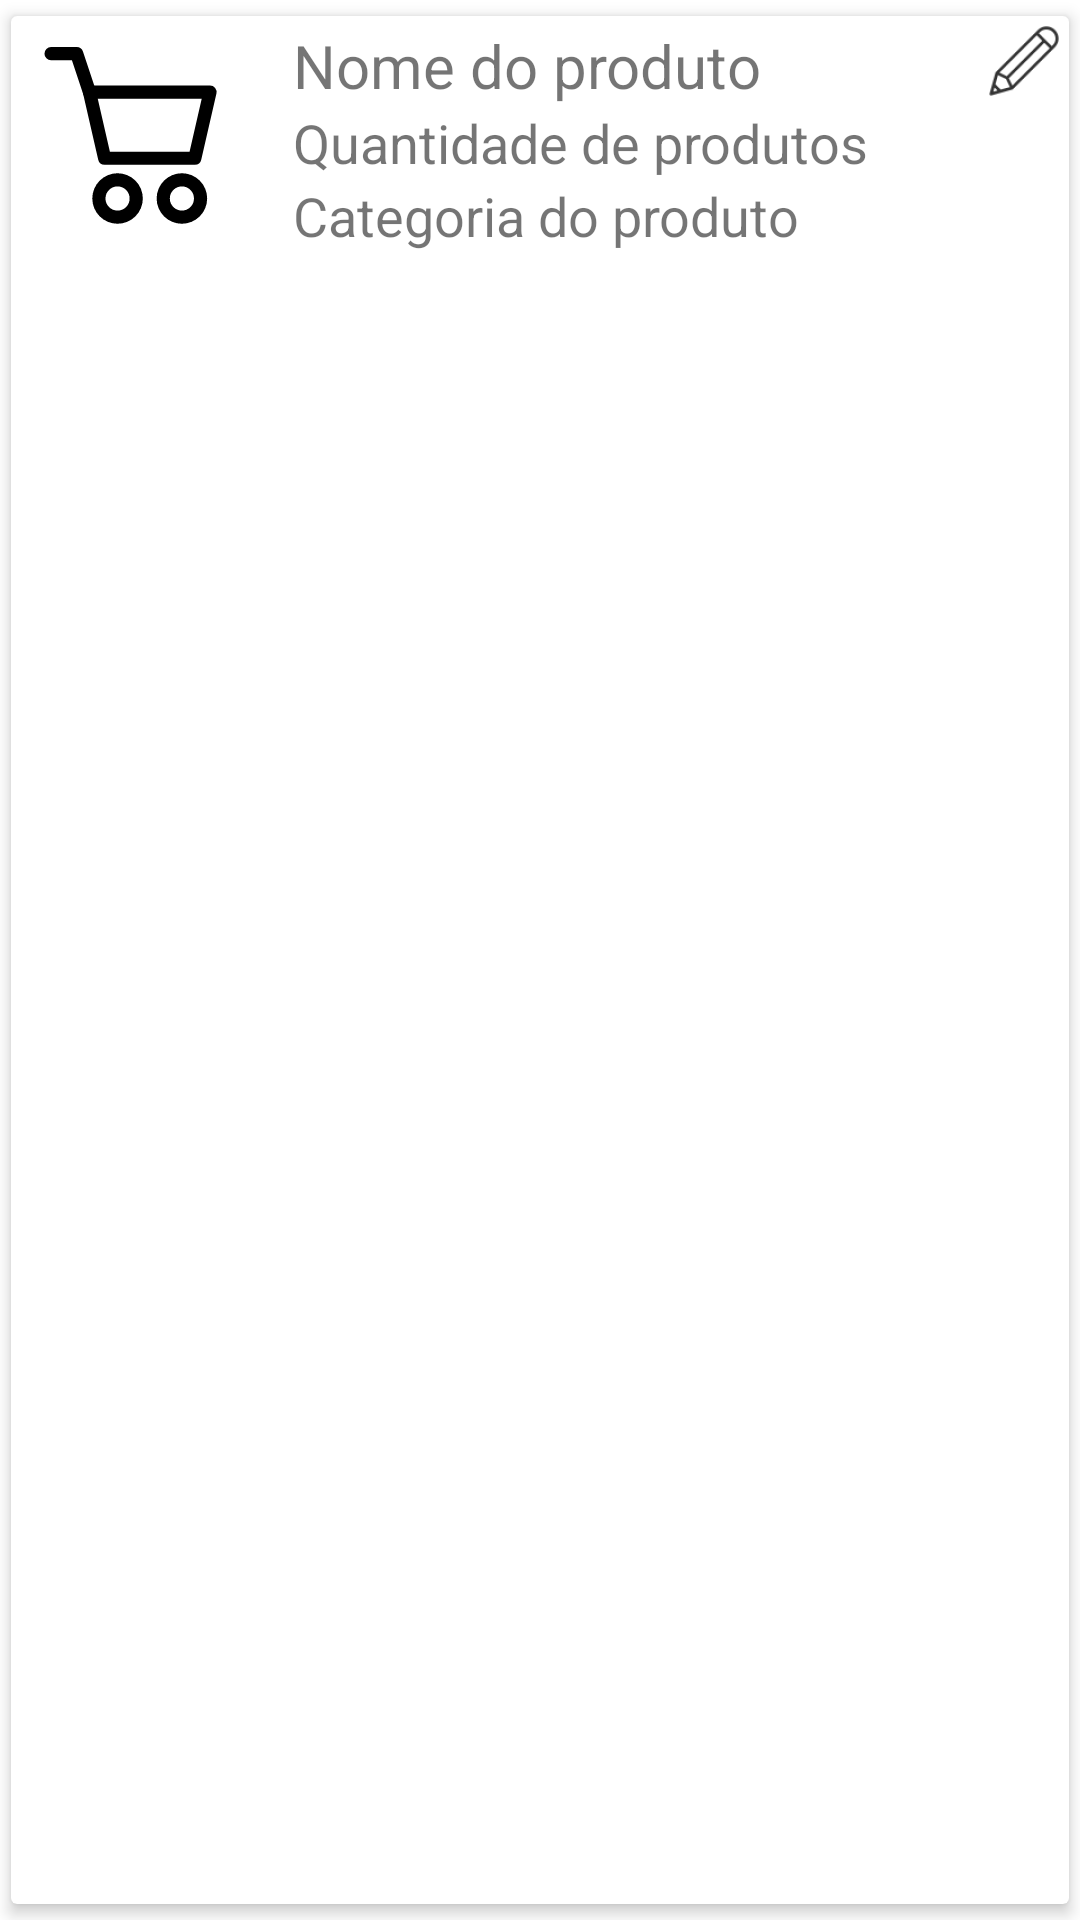

Screen size 1080px x 1920px. Icon name, then its box in pixels as (x1, y1, x2, y2):
pencil: (989, 26, 1059, 96)
